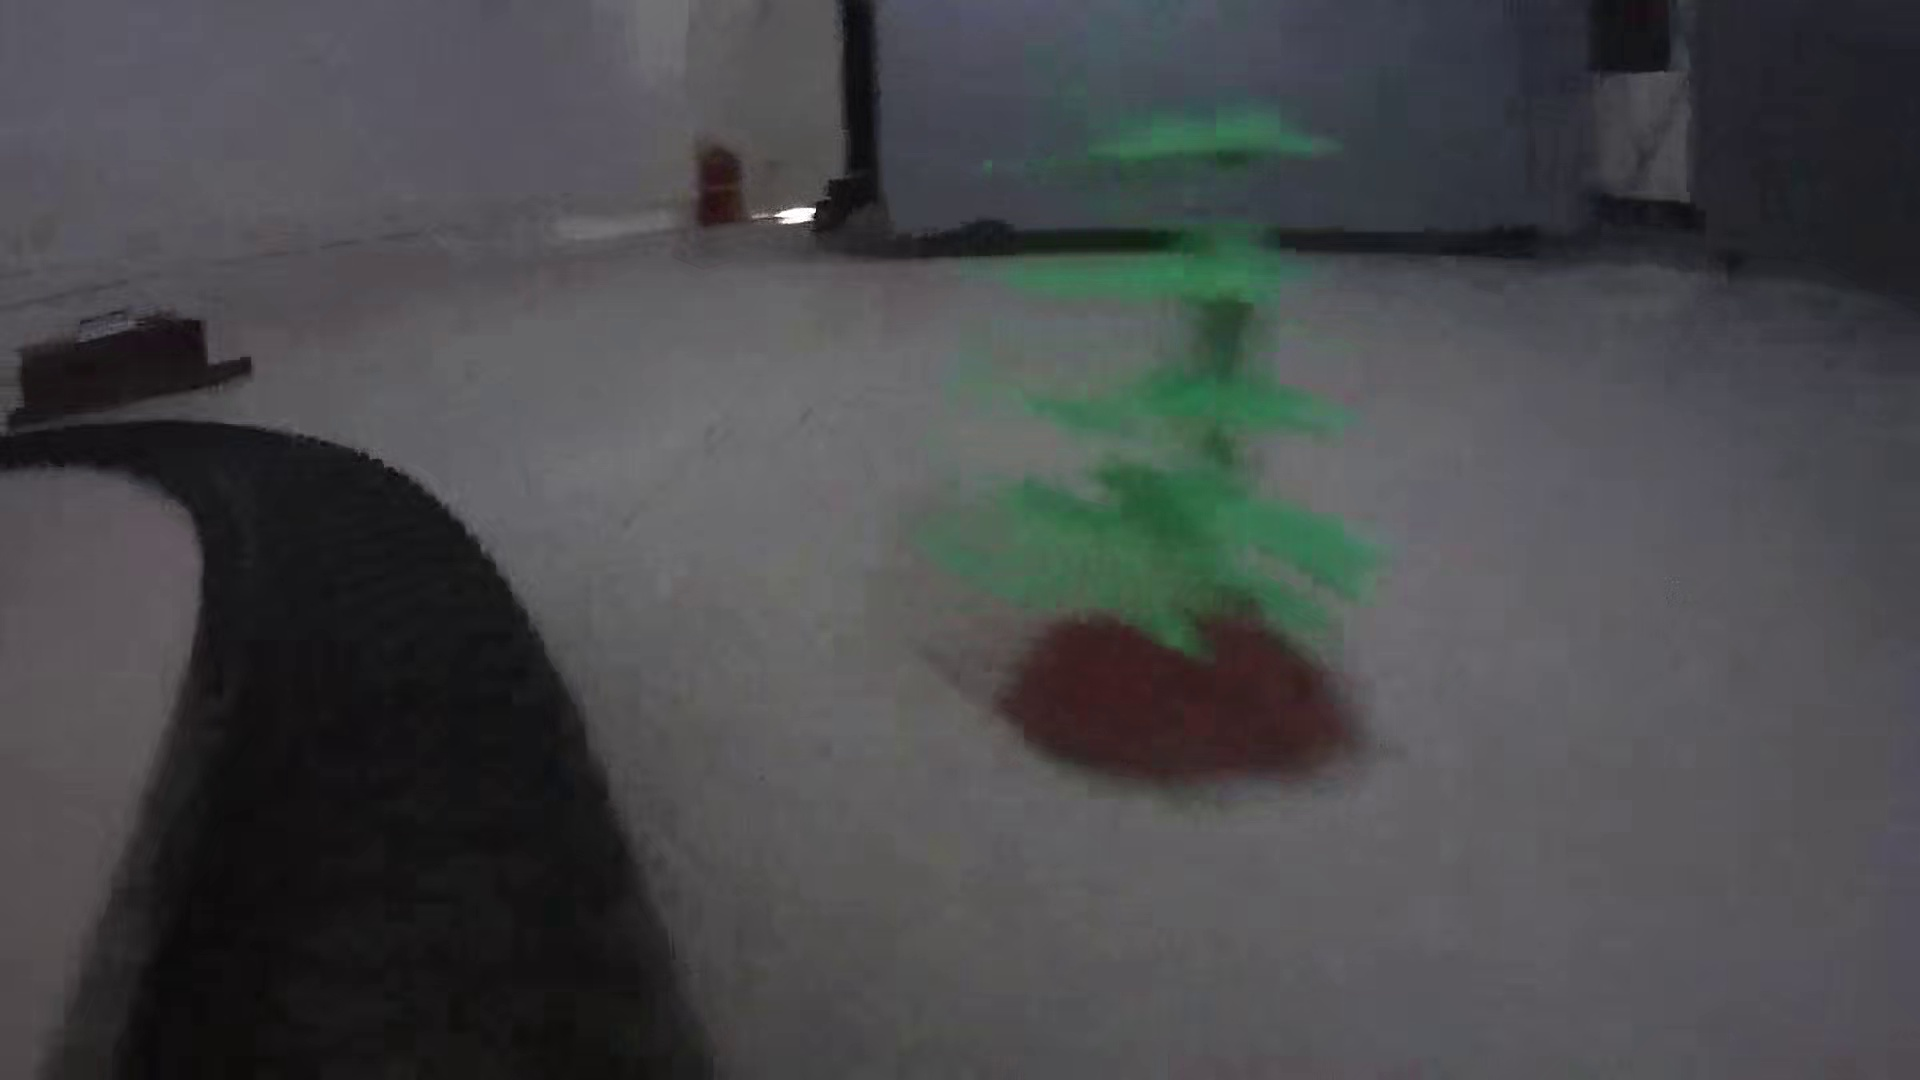tree: (926, 75, 1391, 790)
